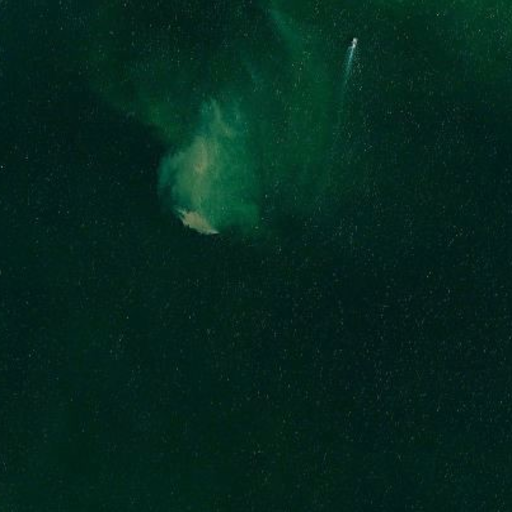ship: (347, 34, 360, 51)
